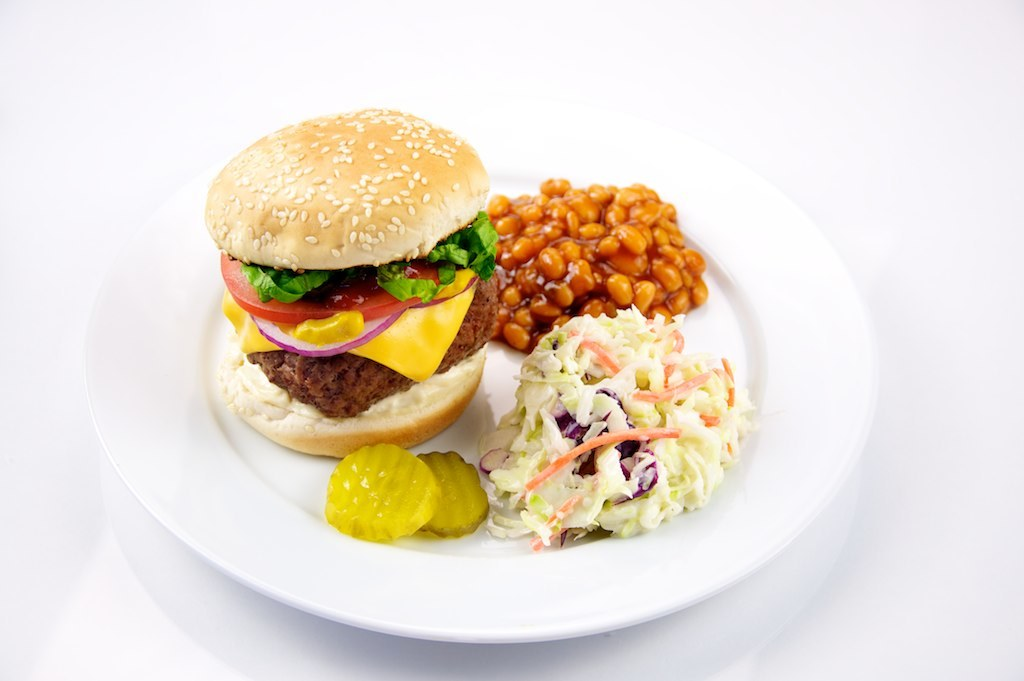Hamburger: (202, 109, 497, 456)
